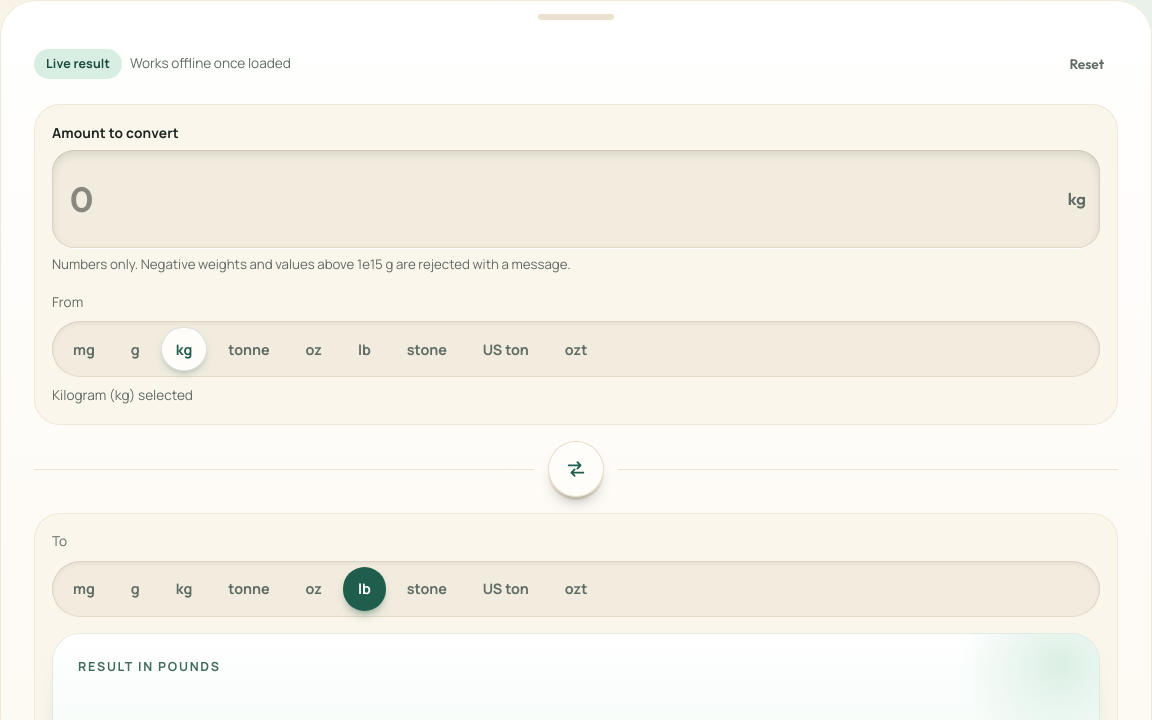
Scenario: WeightConverter › labels the result in words, singular or plural as the number needs
Type "1" into the field labelled "Amount to convert".
click(563, 199); type("1")  # box x1=66 y1=158 x2=1060 y2=240
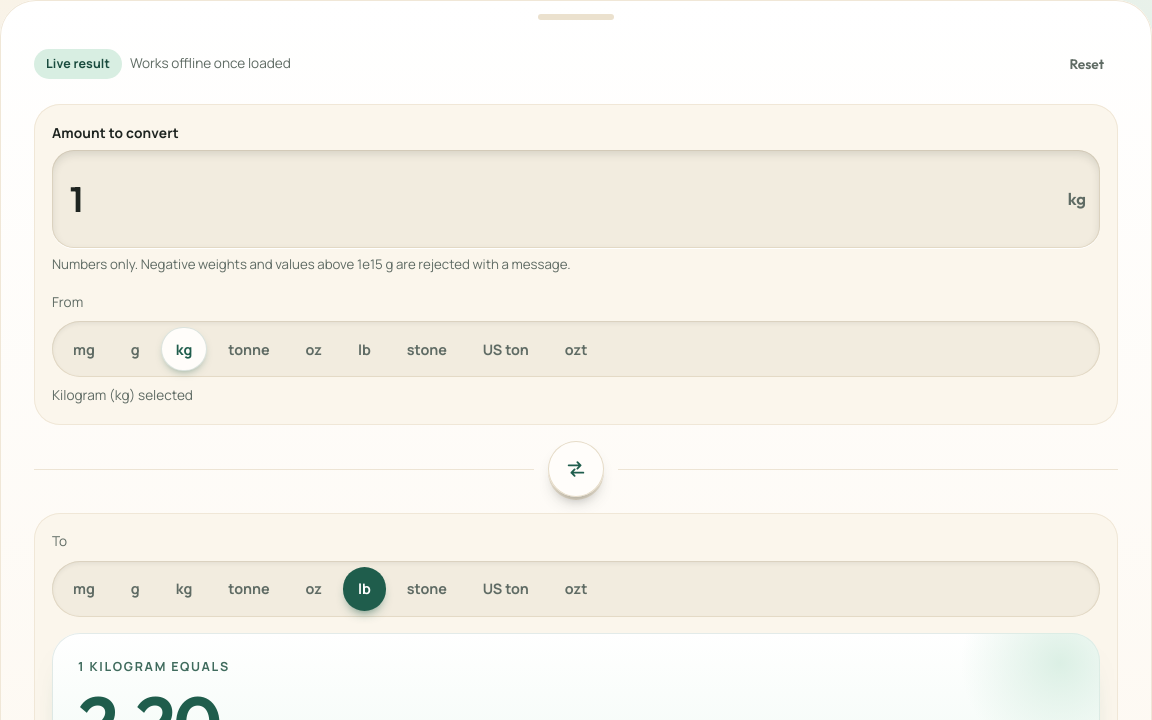
Result: the text "1 kilogram equals" is shown at x1=78 y1=657 x2=230 y2=677
Replace the text in the field labelled "Amount to convert" with "2" at coordinates (563, 199), box x1=66 y1=158 x2=1060 y2=240
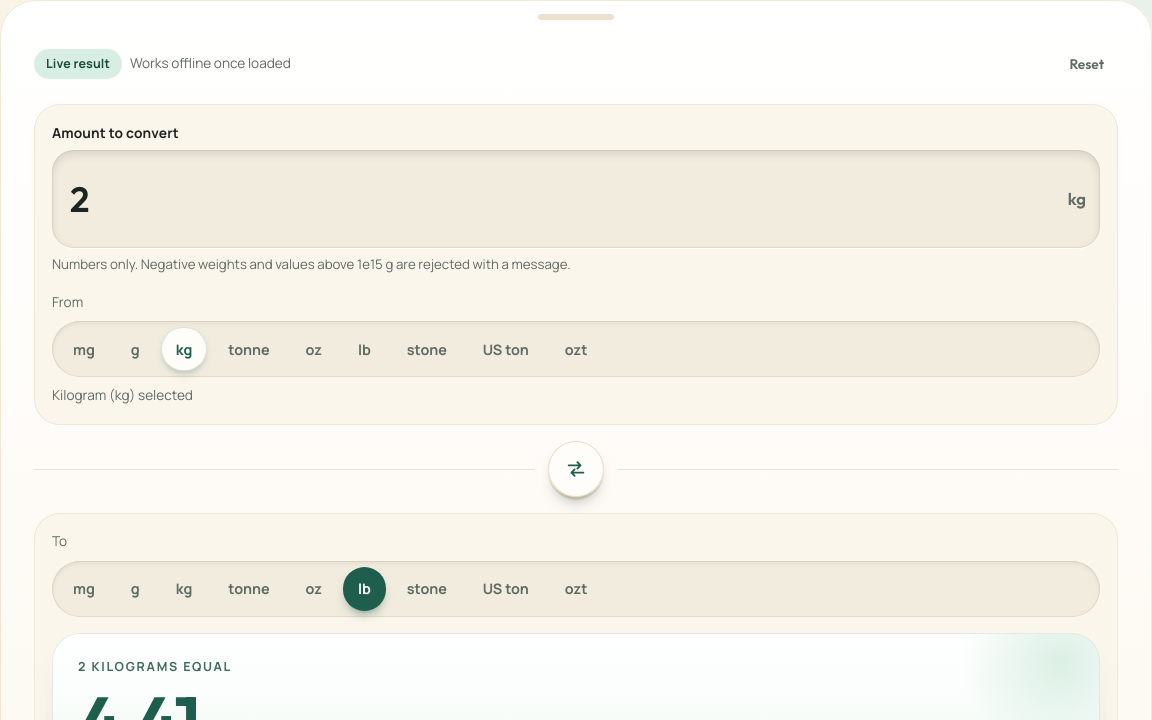
Result: the text "2 kilograms equal" is shown at x1=78 y1=657 x2=232 y2=677
Click the radio button named "US ton (ton)".
click(506, 349)  # box x1=468 y1=327 x2=544 y2=371
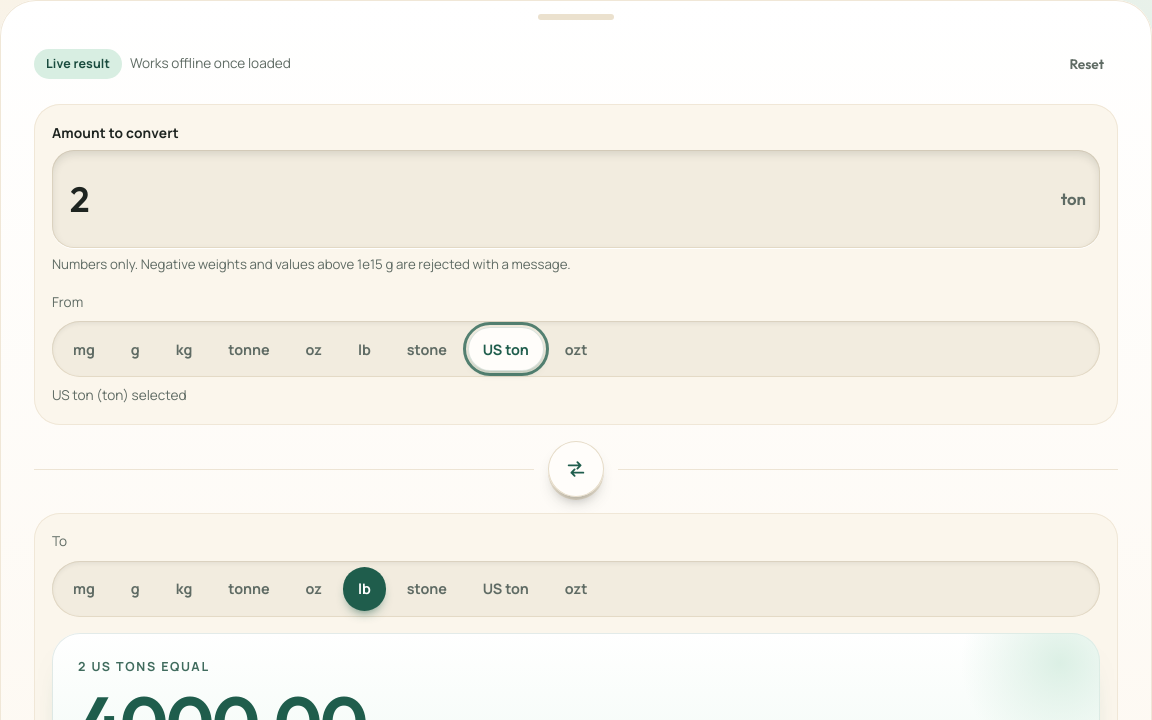
Result: the text "2 US tons equal" is shown at x1=78 y1=658 x2=210 y2=675
